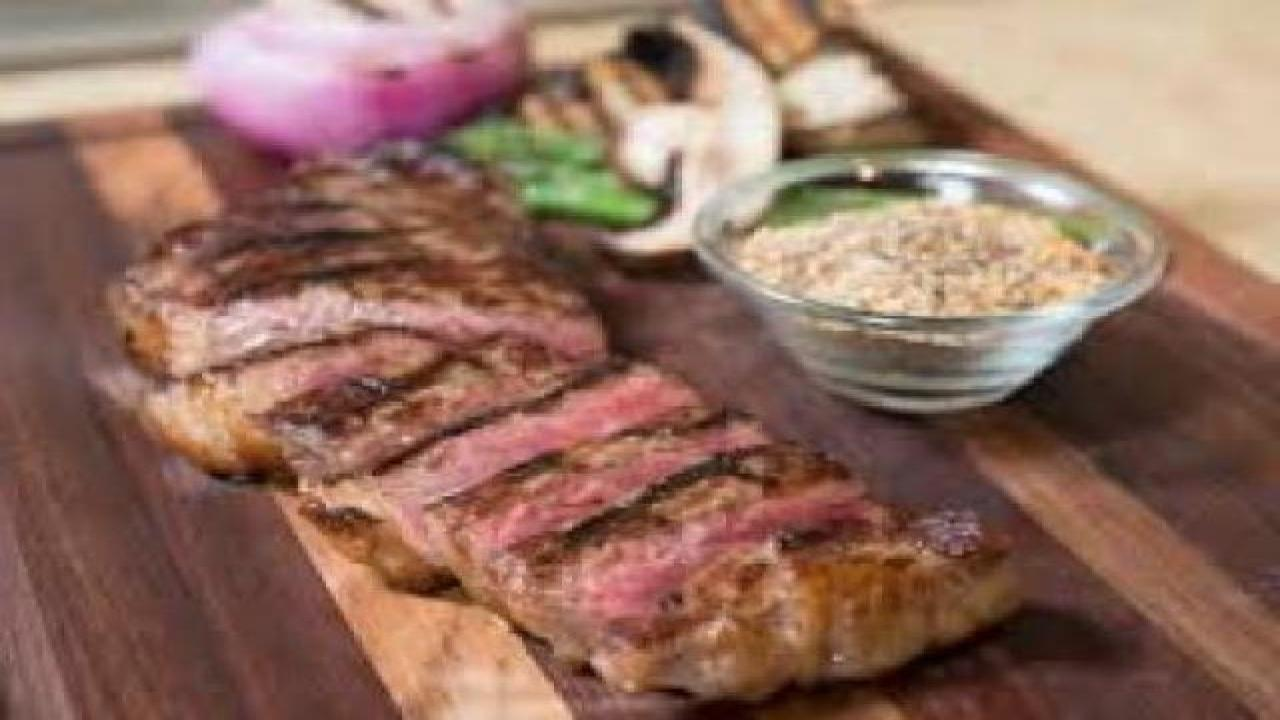Carne: (116, 126, 986, 693)
